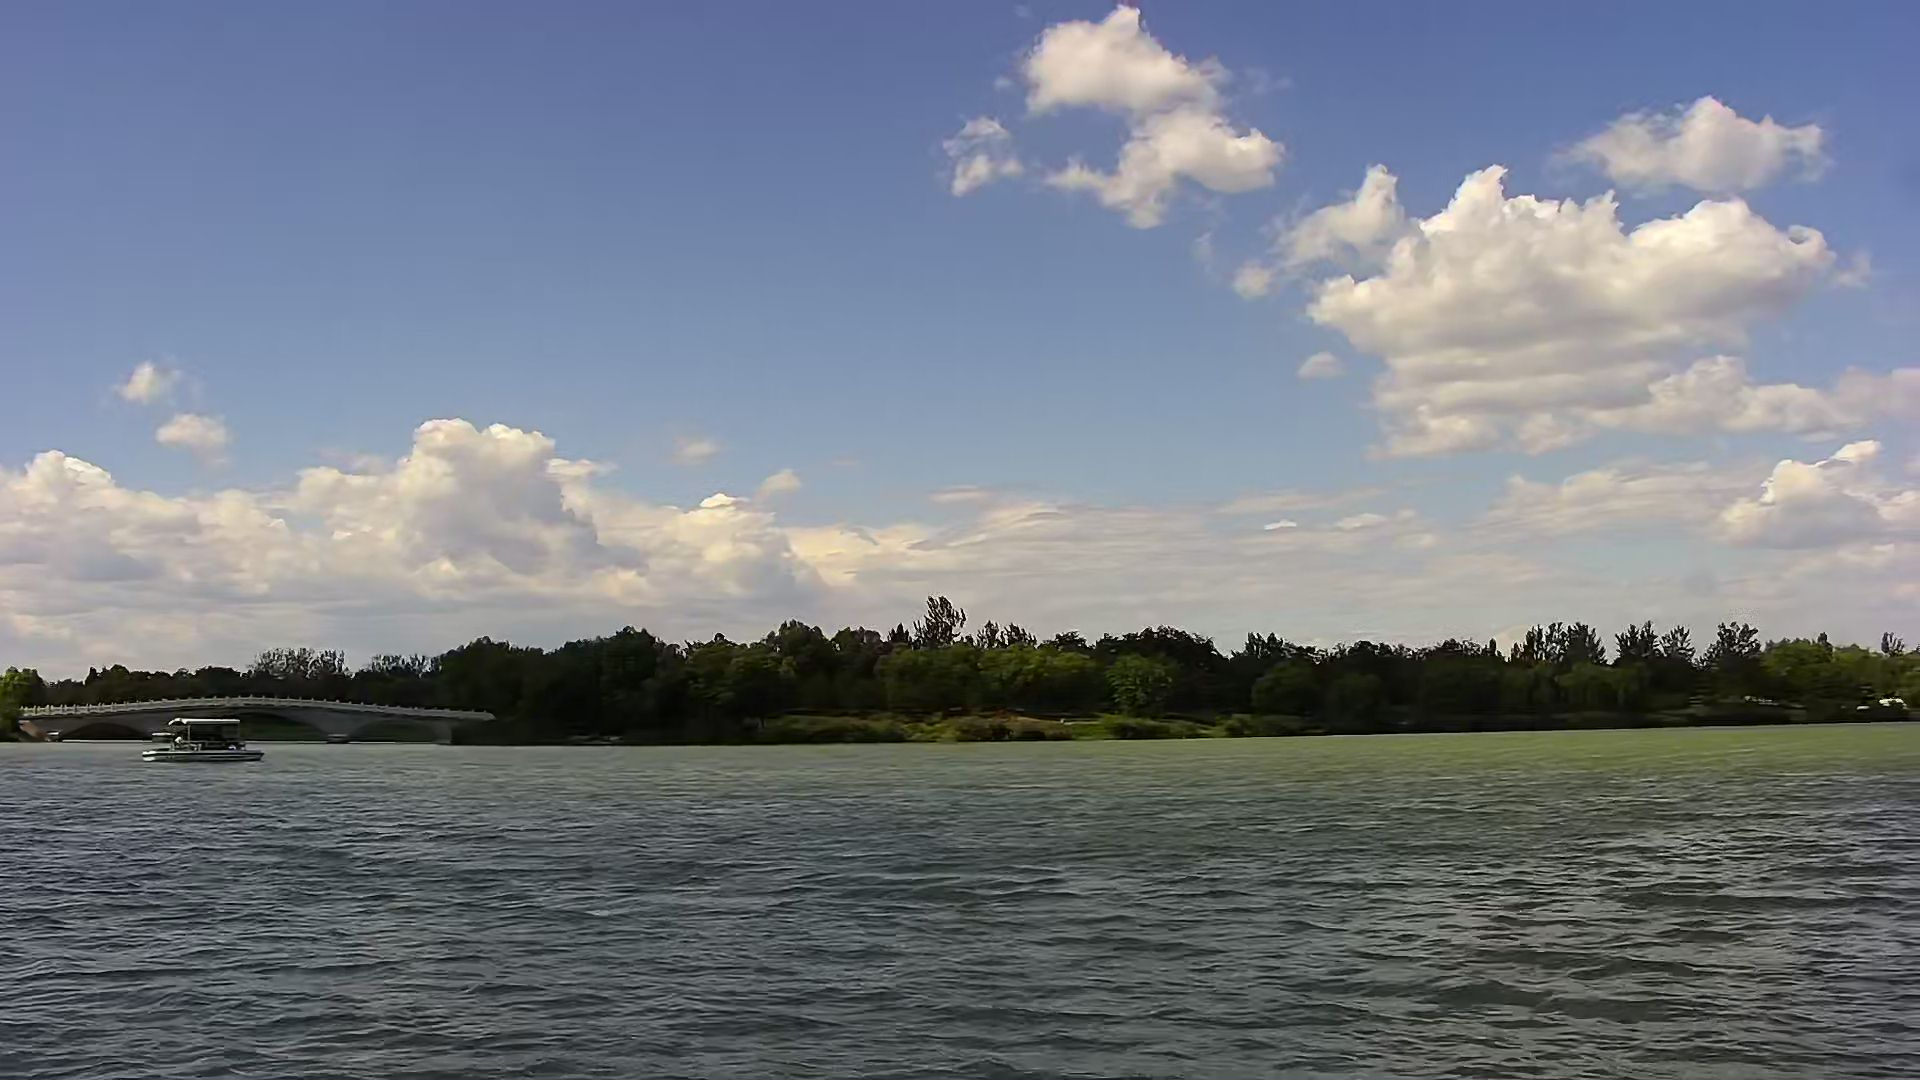boat: (140, 711, 269, 770)
bridge: (25, 694, 485, 754)
